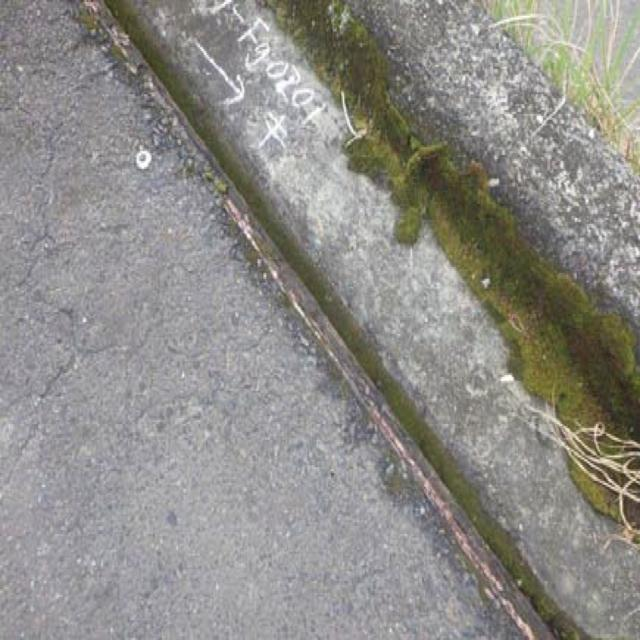corrosion: (211, 204, 533, 620)
